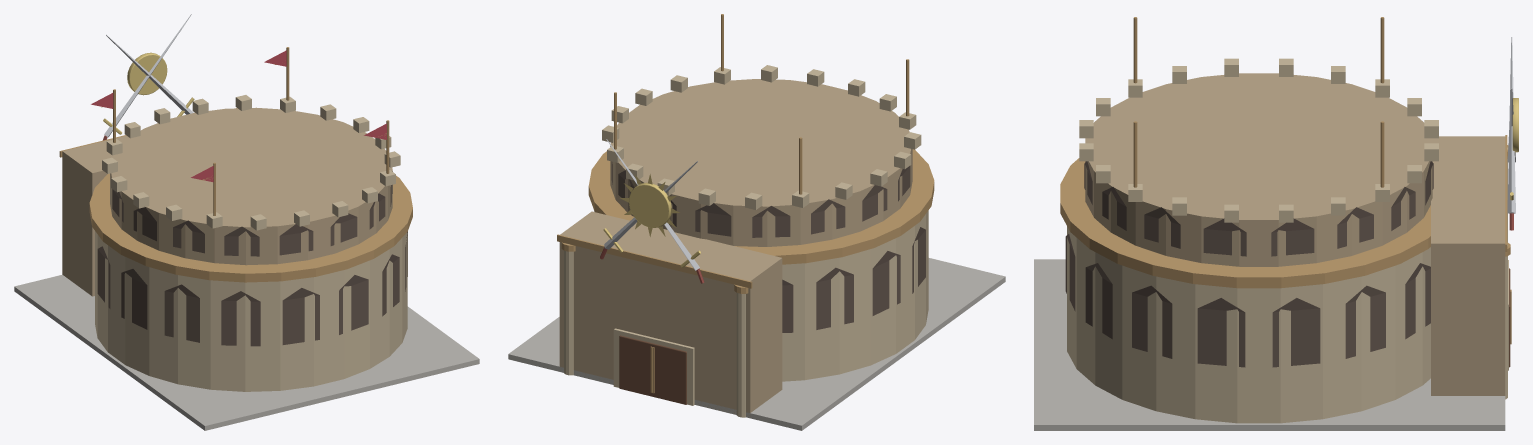
The model's file is centro-laminas-43ed1f82.glb.
The picture shows the model from 3 angles, left to right: view 1: azimuth 30°, elevation 25°; view 2: azimuth 150°, elevation 25°; view 3: azimuth 270°, elevation 25°; orthographic projection. The views are drawn at different scales.
Parts seen in each view (by area): view 1: centro_laminas_body, centro_laminas_glow; view 2: centro_laminas_body, centro_laminas_glow; view 3: centro_laminas_body.
Part boxes in pixels (bbox=[...]): centro_laminas_body: bbox=[14, 14, 479, 430]; centro_laminas_glow: bbox=[91, 50, 386, 182]; centro_laminas_body: bbox=[508, 14, 1005, 430]; centro_laminas_glow: bbox=[603, 174, 700, 267]; centro_laminas_body: bbox=[1034, 17, 1515, 430].
Bounding box in the file's own units: 15.01 × 11.91 × 18.32.
